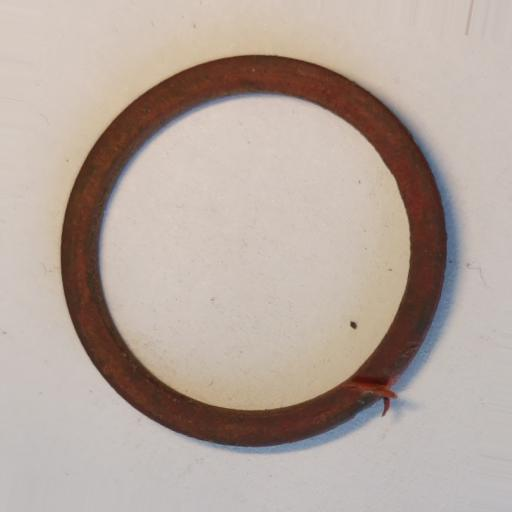defect: (345, 376, 399, 418)
